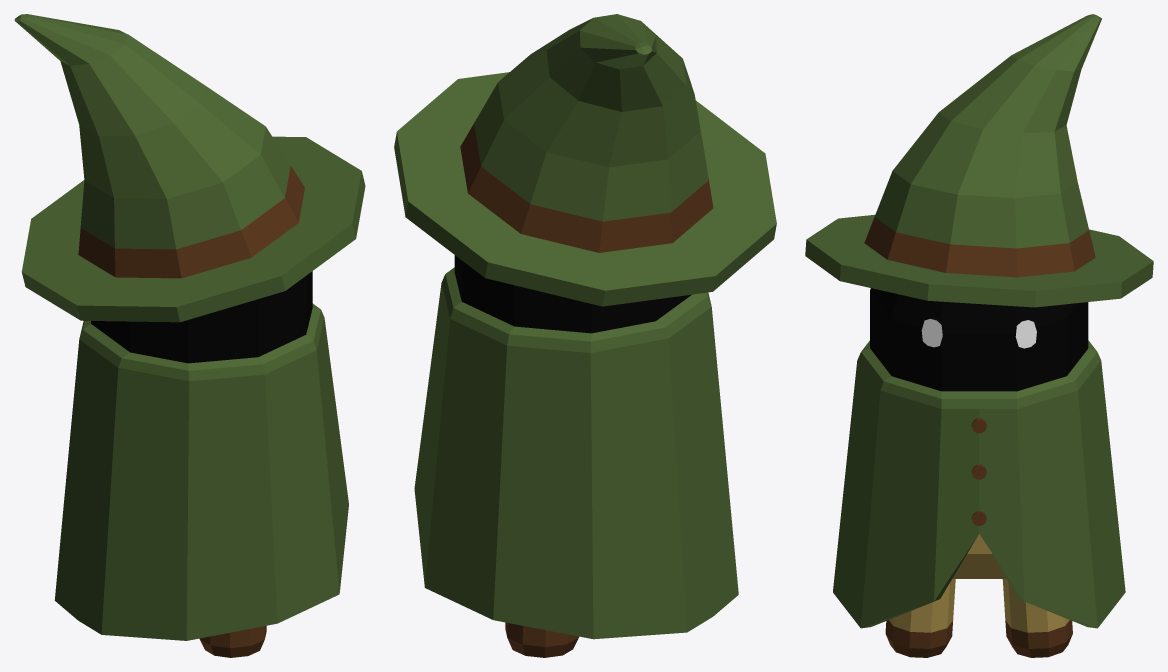
The picture shows the model from 3 angles, left to right: view 1: azimuth 30°, elevation 25°; view 2: azimuth 150°, elevation 25°; view 3: azimuth 270°, elevation 25°; orthographic projection. The views are drawn at different scales.
Parts seen in each view (by area): view 1: PlayerBody, PlayerHat, PlayerLegR; view 2: PlayerBody, PlayerHat, PlayerLegL; view 3: PlayerBody, PlayerHat, PlayerLegL, PlayerLegR, Torso, Eyes, Buttons.
Boxes of the visible parts, x1=… form: PlayerBody: x1=54, y1=271, x2=348, y2=640; PlayerHat: x1=14, y1=14, x2=365, y2=322; PlayerLegR: x1=199, y1=626, x2=266, y2=657; PlayerBody: x1=414, y1=255, x2=738, y2=639; PlayerHat: x1=394, y1=14, x2=776, y2=306; PlayerLegL: x1=505, y1=622, x2=578, y2=657; PlayerBody: x1=833, y1=288, x2=1125, y2=628; PlayerHat: x1=805, y1=14, x2=1153, y2=307; PlayerLegL: x1=1002, y1=579, x2=1072, y2=657; PlayerLegR: x1=885, y1=579, x2=955, y2=657; Torso: x1=952, y1=534, x2=1006, y2=578; Eyes: x1=921, y1=317, x2=1036, y2=348; Buttons: x1=971, y1=418, x2=986, y2=525.
Bounding box in the file's own units: 243 × 479 × 261.
